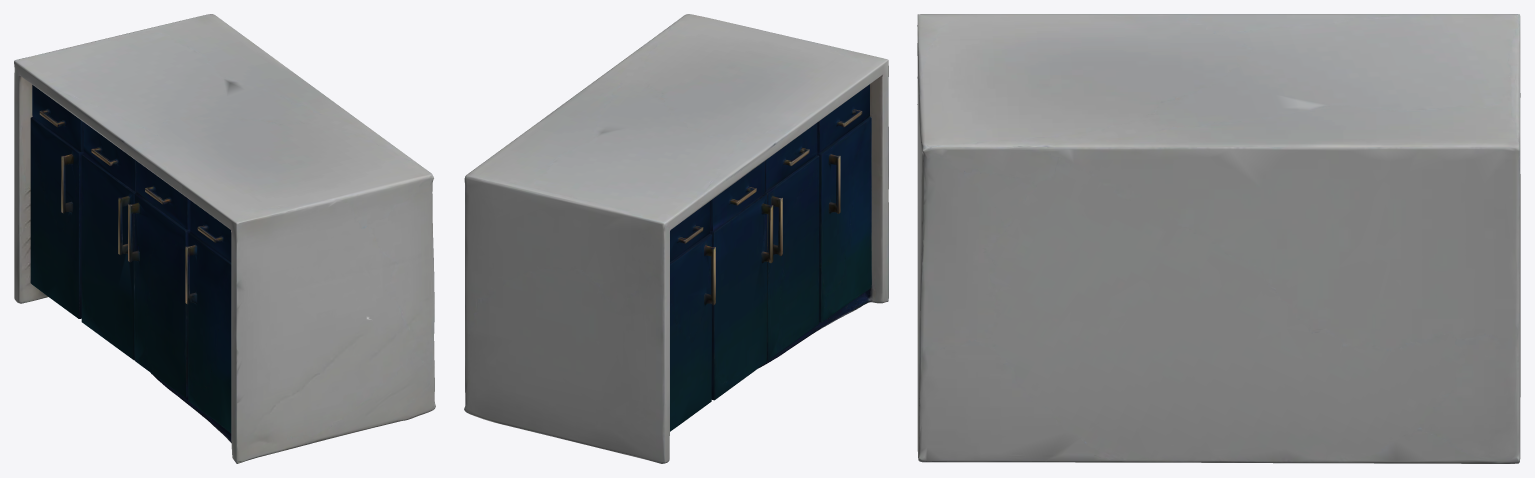
3 renders of one model, left to right at view 1: azimuth 30°, elevation 25°; view 2: azimuth 150°, elevation 25°; view 3: azimuth 270°, elevation 25°, orthographic. The views are drawn at different scales.
Visible parts, largest first — view 1: material; view 2: material; view 3: material.
Part boxes in pixels (x1,y1,x2,y2): material: (14,14,435,463); material: (464,14,888,463); material: (917,14,1520,463).
Bounding box in the file's own units: 0.4903 × 0.5625 × 0.9433.
1 material, 1 textured.
